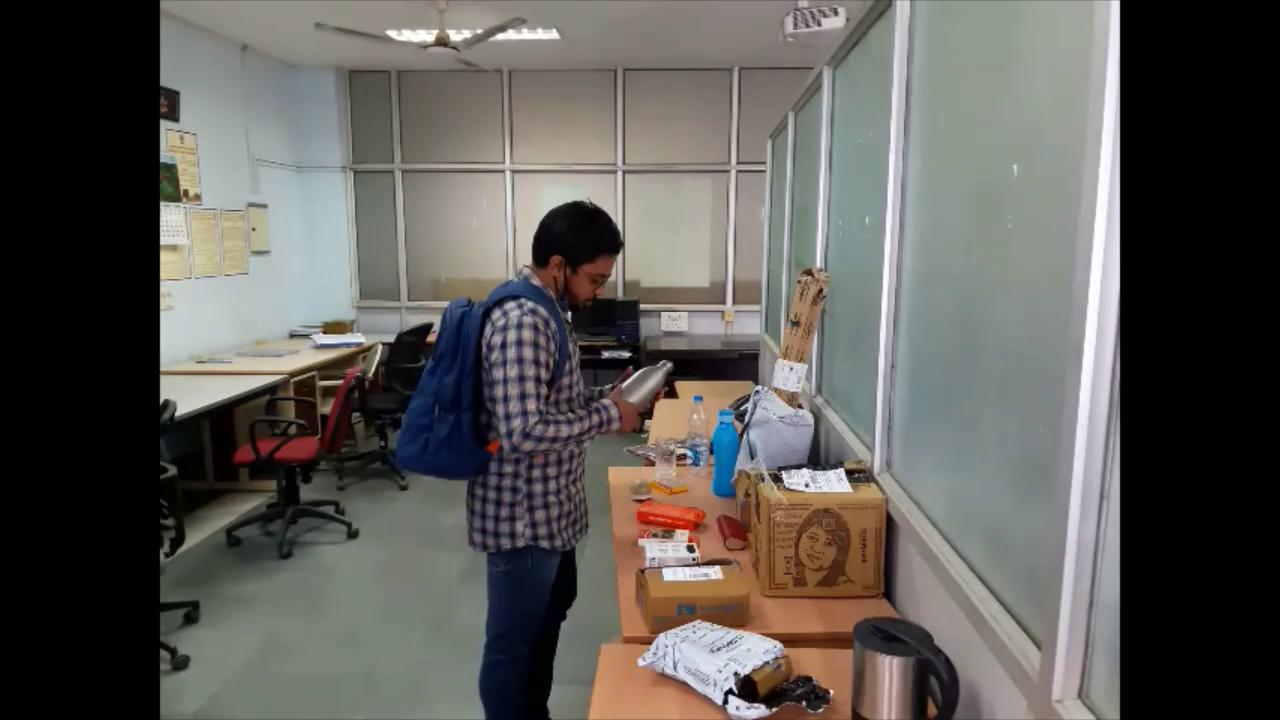Normal: (386, 186, 693, 720)
